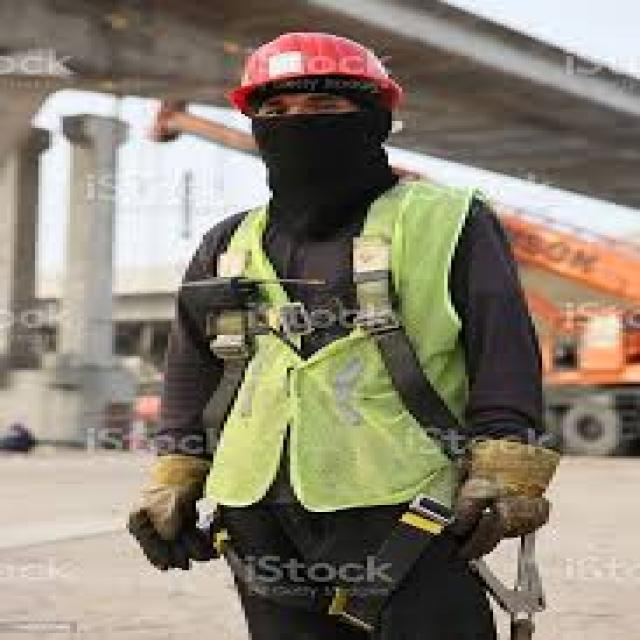Reflective-Jacket: (168, 170, 531, 524)
Safety-Helmet: (200, 23, 430, 119)
